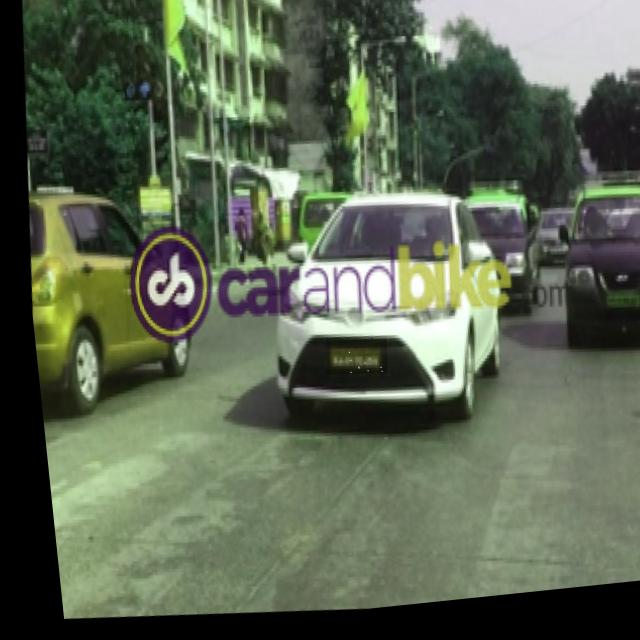license_plate: (315, 339, 381, 385)
